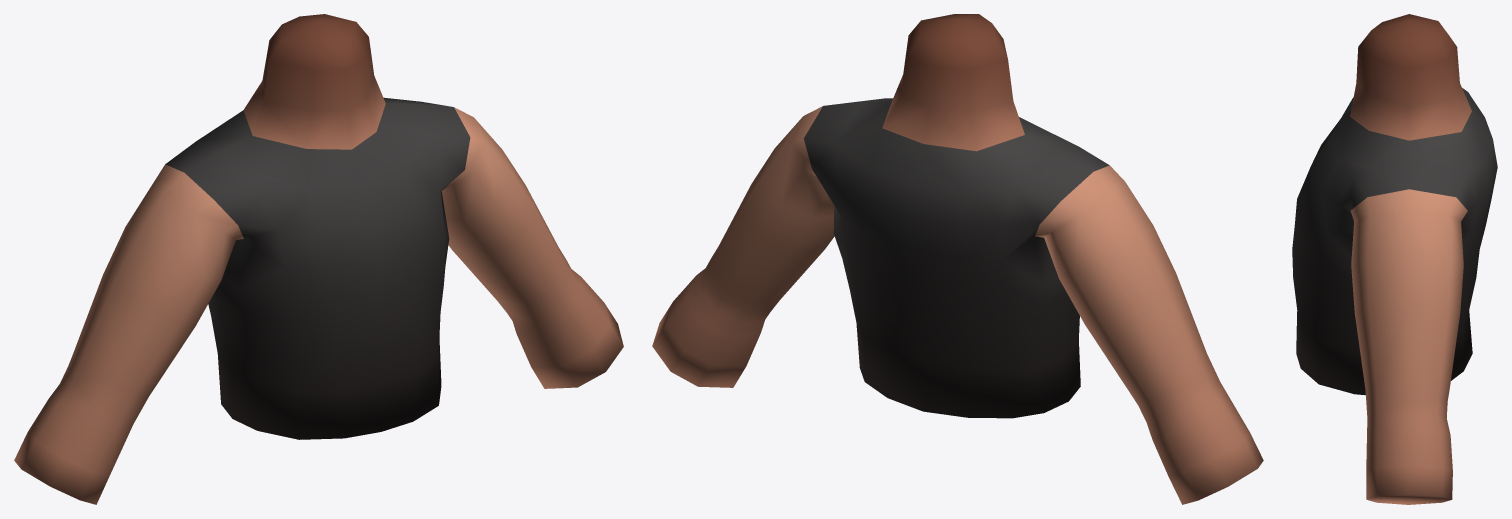
Rendered from Equip_Chest_male_01_3.FBX.
The picture shows the model from 3 angles, left to right: view 1: azimuth 30°, elevation 25°; view 2: azimuth 150°, elevation 25°; view 3: azimuth 270°, elevation 25°; orthographic projection. The views are drawn at different scales.
Visible parts, largest first — view 1: Equip_Chest_male_01_3; view 2: Equip_Chest_male_01_3; view 3: Equip_Chest_male_01_3.
Part boxes in pixels (left/top/right/bottom): Equip_Chest_male_01_3: left=14, top=14, right=623, bottom=504; Equip_Chest_male_01_3: left=652, top=14, right=1263, bottom=504; Equip_Chest_male_01_3: left=1292, top=14, right=1497, bottom=504.
Bounding box in the file's own units: 52.52 × 35.53 × 17.24.
